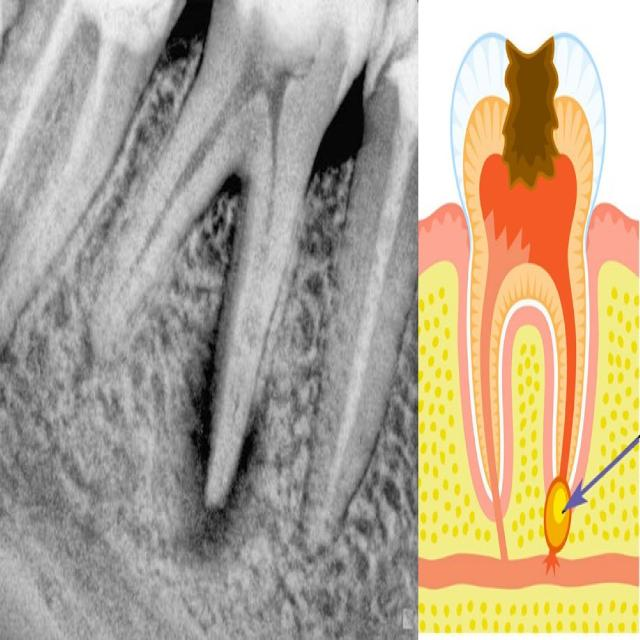Caries: (94, 0, 363, 619)
